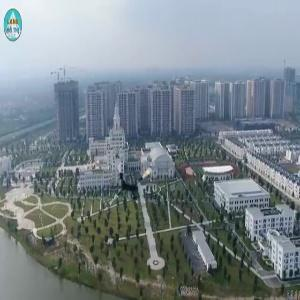drone: (111, 159, 157, 205)
